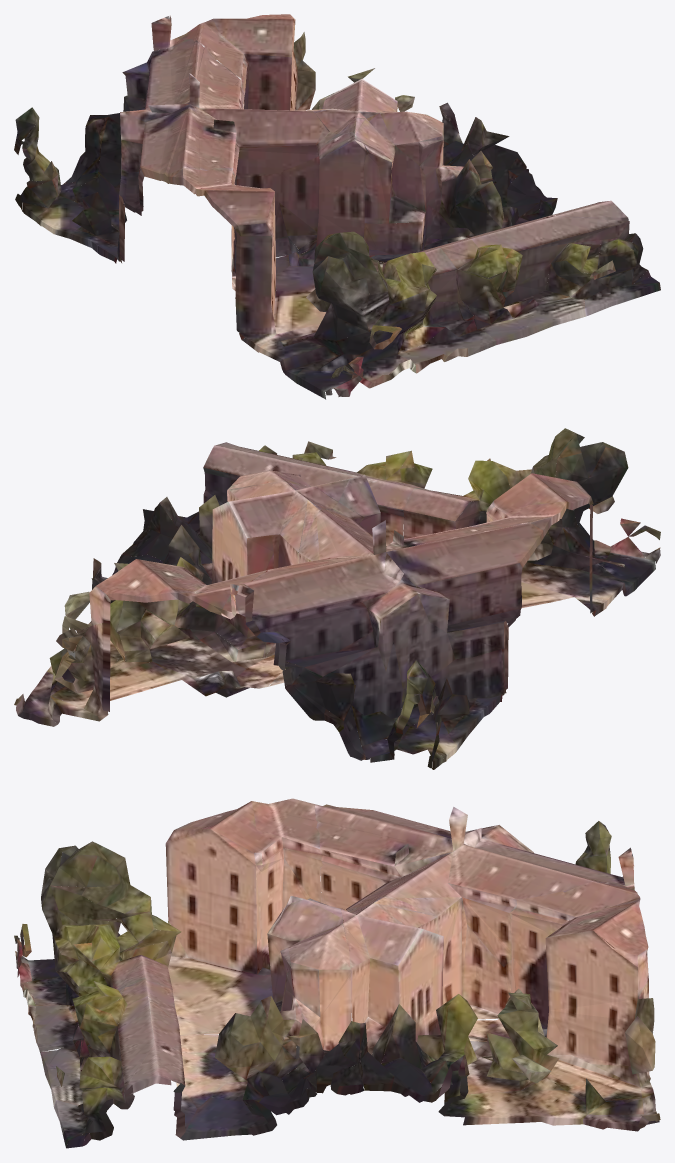
The picture shows the model from 3 angles, top to bottom: view 1: azimuth 30°, elevation 25°; view 2: azimuth 150°, elevation 25°; view 3: azimuth 270°, elevation 25°; orthographic projection. The views are drawn at different scales.
Parts seen in each view (by area): view 1: Mesh_0; view 2: Mesh_0; view 3: Mesh_0.
Part boxes in pixels (bbox=[...]): Mesh_0: bbox=[14, 14, 660, 399]; Mesh_0: bbox=[14, 428, 660, 769]; Mesh_0: bbox=[14, 798, 660, 1148].
Size of the model in its own units: 66.53 by 27.6 by 82.7.
Materials: 2 (2 with a texture image).
